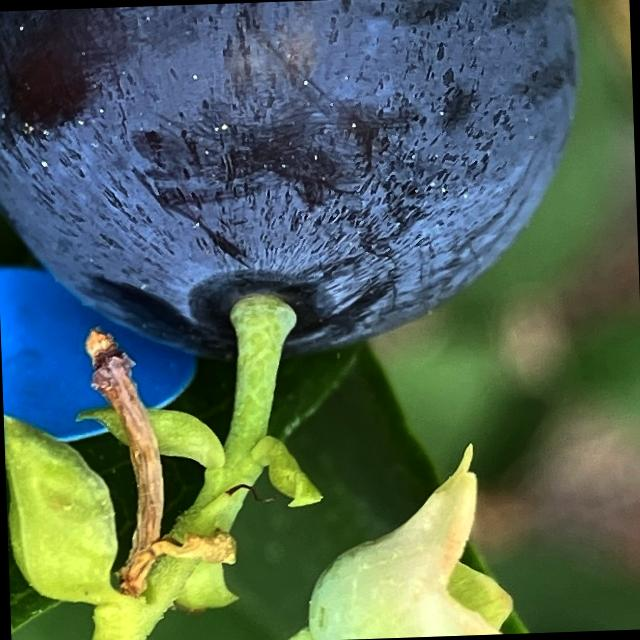Blueberries: (0, 0, 590, 374)
